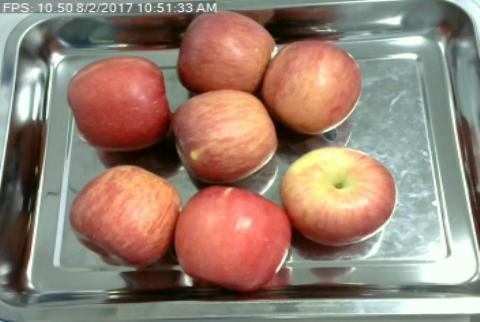apple: (178, 185, 295, 290), (281, 148, 399, 244), (72, 165, 176, 264), (67, 57, 169, 152), (172, 92, 279, 180), (264, 41, 362, 133), (177, 13, 273, 91)
